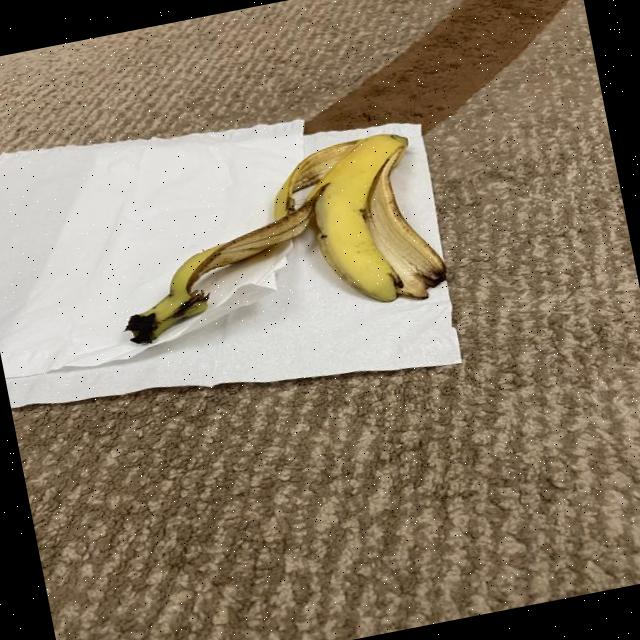banana-peel: (96, 125, 450, 355), (262, 125, 450, 323)
